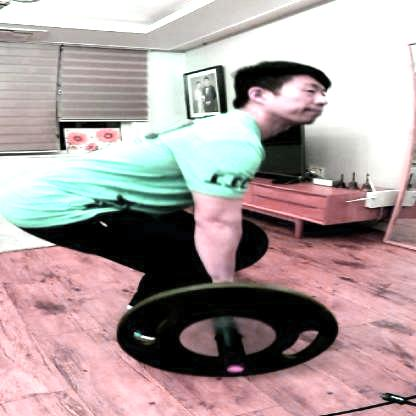Barbell: (216, 360, 252, 379)
